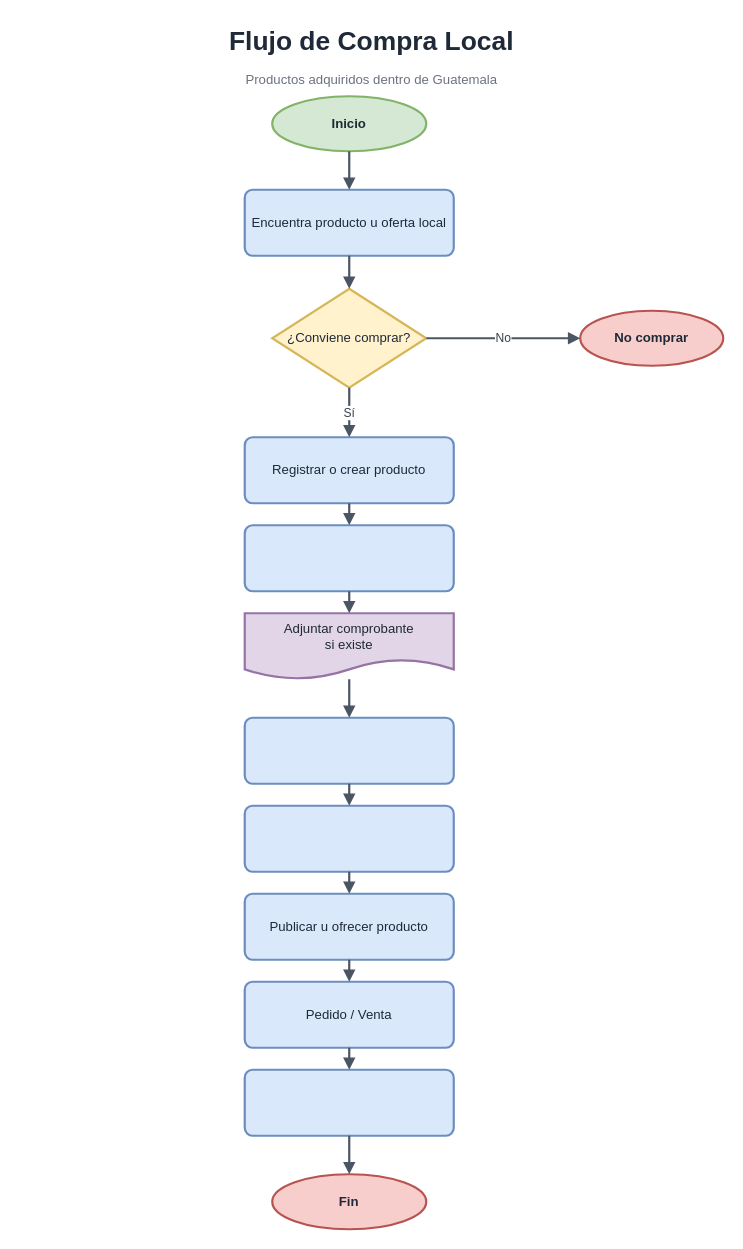
This 743x1249 diagram has some shape labels left out. The centre of each missing label's shape, as x and y in pixels:
Cobro y entrega: pixel 348 1102
Crear unidades de inventario: pixel 348 750
Estado inicial: Disponible: pixel 348 838
Registrar compra Origen: Compra local: pixel 348 558
